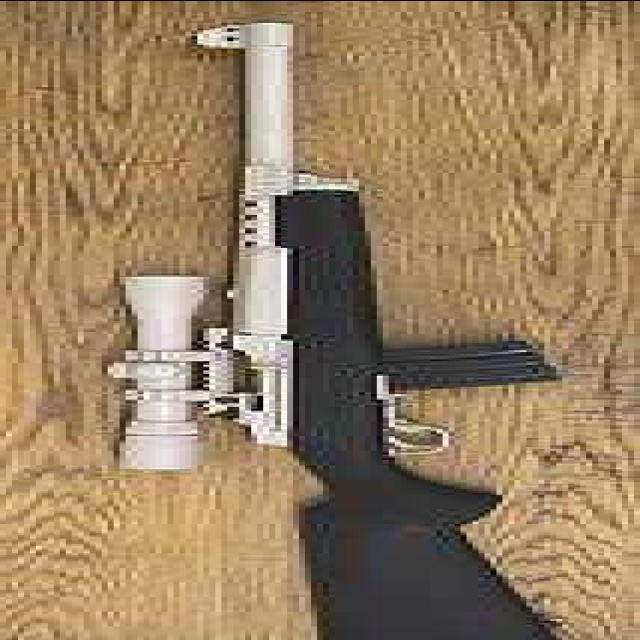heavyweapon: (73, 9, 599, 640)
